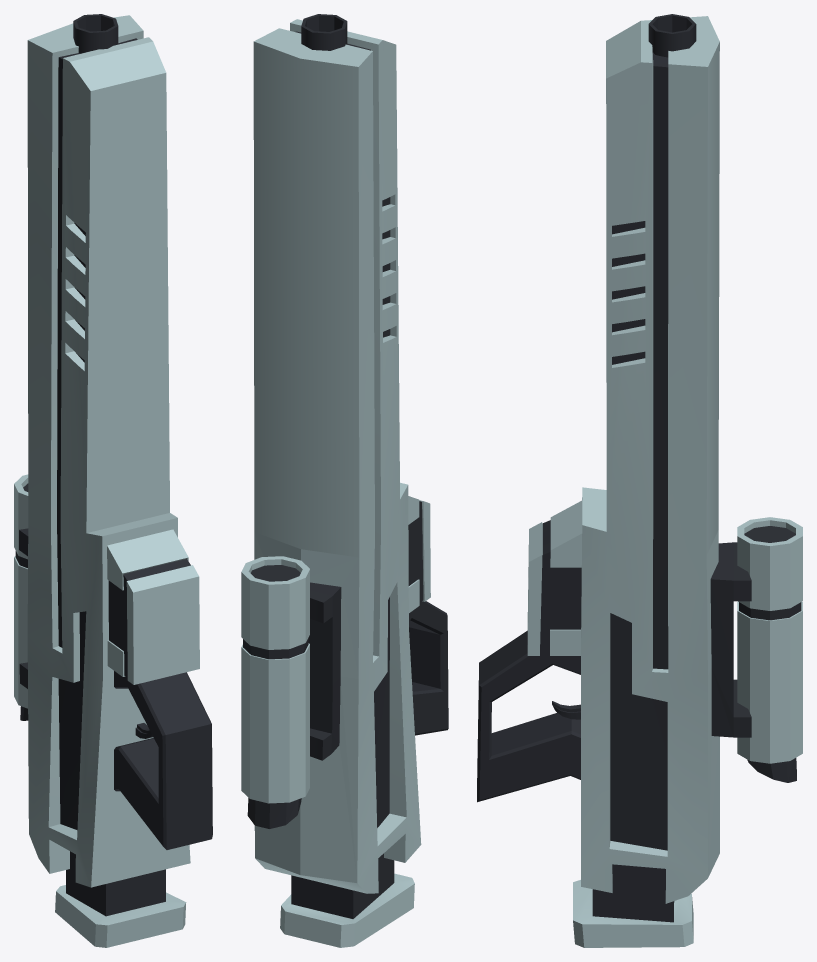
File: low poly scifi gun026.fbx
The picture shows the model from 3 angles, left to right: view 1: azimuth 30°, elevation 25°; view 2: azimuth 150°, elevation 25°; view 3: azimuth 270°, elevation 25°; orthographic projection. The views are drawn at different scales.
Visible parts, largest first — view 1: low poly scifi gun026; view 2: low poly scifi gun026; view 3: low poly scifi gun026.
Boxes of the visible parts, x1=… form: low poly scifi gun026: x1=14, y1=14, x2=212, y2=947; low poly scifi gun026: x1=241, y1=14, x2=448, y2=947; low poly scifi gun026: x1=477, y1=14, x2=802, y2=947.
Bounding box in the file's own units: 3.2 × 26.48 × 8.64.
